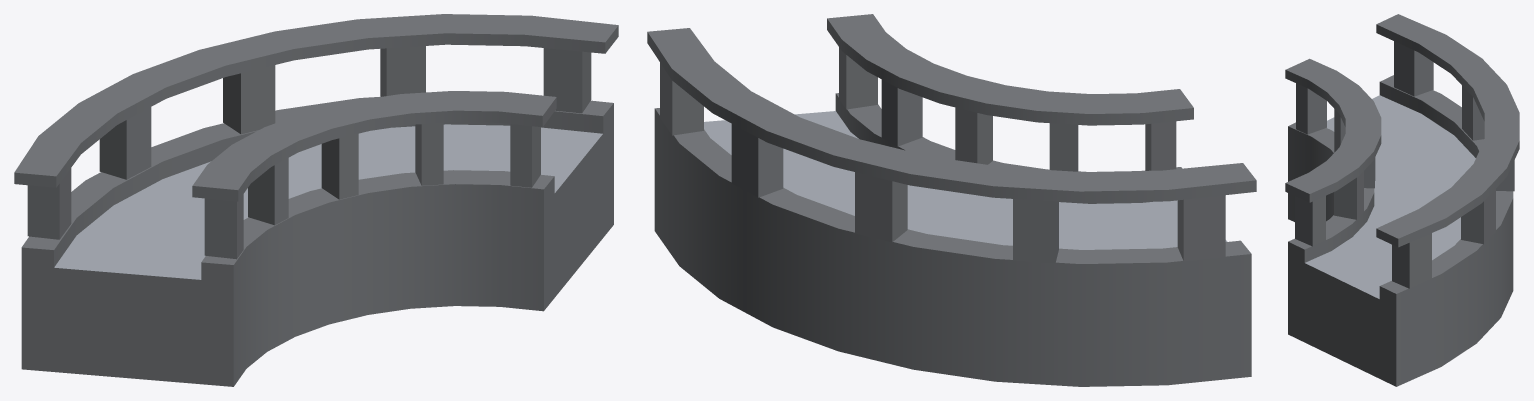
File: BridgeTile_2.fbx
3 renders of one model, left to right at view 1: azimuth 30°, elevation 25°; view 2: azimuth 150°, elevation 25°; view 3: azimuth 270°, elevation 25°, orthographic. The views are drawn at different scales.
Parts seen in each view (by area): view 1: BridgeTile_2; view 2: BridgeTile_2; view 3: BridgeTile_2.
Boxes of the visible parts, x1,y1,x2,y2 form: BridgeTile_2: (14, 14, 618, 386); BridgeTile_2: (647, 14, 1256, 386); BridgeTile_2: (1285, 14, 1519, 386).
Bounding box in the file's own units: 353 × 110 × 155.
